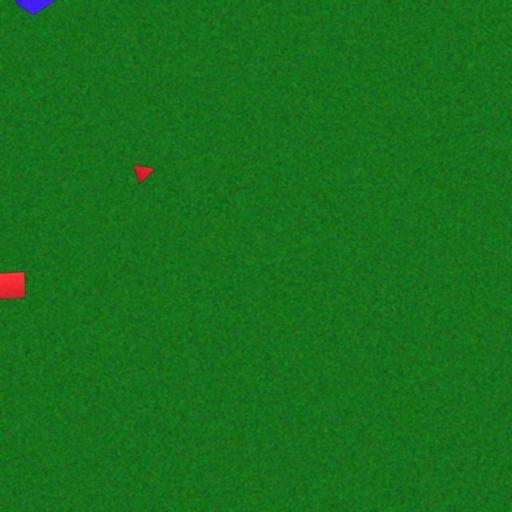RED_SQUARE: (0, 271, 26, 300)
